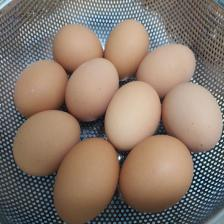egg: (52, 136, 120, 224), (119, 133, 194, 212), (12, 109, 82, 177), (161, 81, 223, 153), (104, 79, 162, 151), (64, 57, 120, 122), (135, 42, 197, 98), (13, 58, 69, 118), (104, 19, 150, 82), (52, 23, 104, 73)
